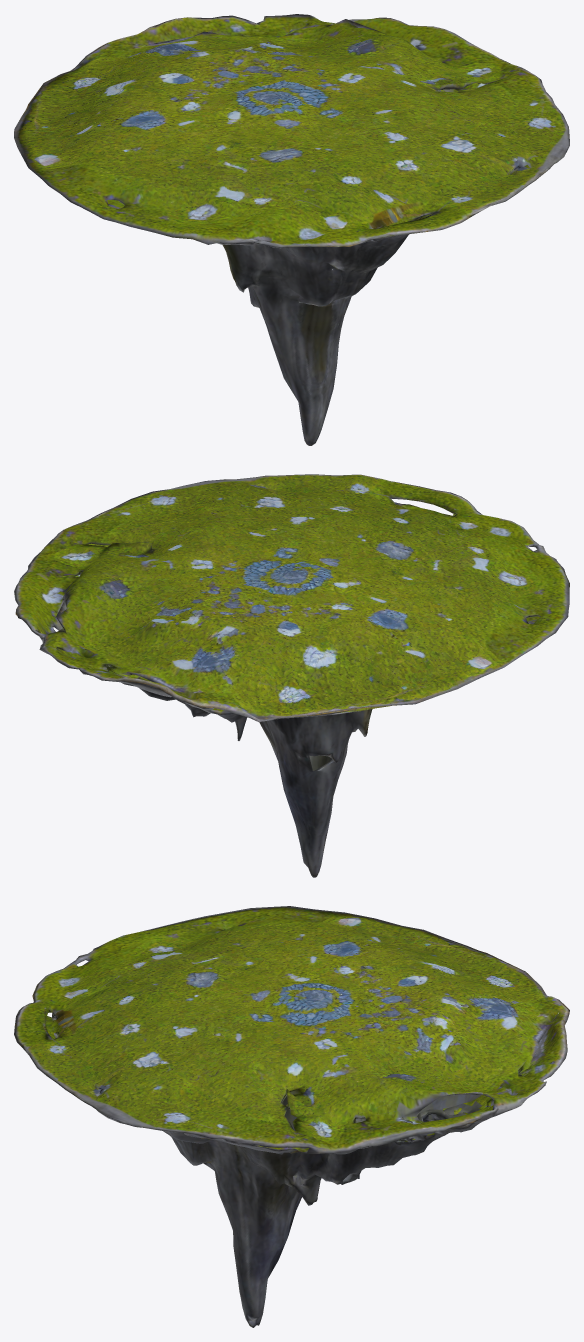
Rendered from floating_island.glb.
3 views of the same model, one above another, from view 1: azimuth 30°, elevation 25°; view 2: azimuth 150°, elevation 25°; view 3: azimuth 270°, elevation 25° (orthographic).
Parts seen in each view (by area): view 1: Object_2; view 2: Object_2; view 3: Object_2.
Part boxes in pixels (x1=…): Object_2: x1=14, y1=14, x2=569, y2=445; Object_2: x1=14, y1=474, x2=569, y2=877; Object_2: x1=14, y1=906, x2=569, y2=1327.
Bounding box in the file's own units: 1.99 × 1.29 × 1.98.
Materials: 1 (1 with a texture image).
